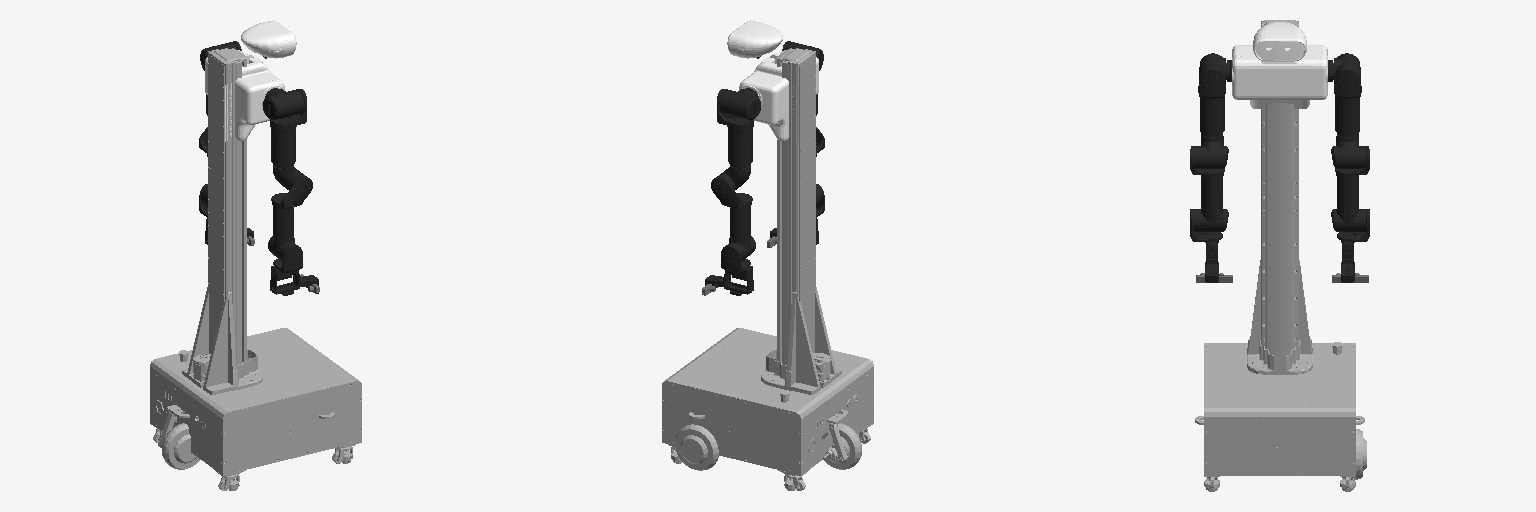
--- What the picture shows (computed from the rendered views, not written in the file) ---
The picture shows the robot from 3 angles, left to right: view 1: azimuth 30°, elevation 25°; view 2: azimuth 150°, elevation 25°; view 3: azimuth 270°, elevation 25°; orthographic projection.
Robot: ffw_sg2_follower — 42 links, 41 joints (30 revolute, 1 prismatic, 10 fixed); root link world_link; default pose: all joints at 0.
Links seen in each view (by area): view 1: base_link, lift_link, arm_base_link, head_link2, arm_r_link2, arm_r_link4, rear_wheel_drive_link, arm_r_link1, arm_r_link6, arm_r_link7; view 2: base_link, lift_link, arm_base_link, left_wheel_drive_link, head_link2, arm_l_link2, arm_l_link4, arm_l_link1, rear_wheel_drive_link, arm_l_link6, arm_l_link7, rear_wheel_steer_link; view 3: base_link, arm_base_link, head_link2, arm_l_link2, arm_r_link2, arm_l_link4, arm_r_link4, arm_l_link3, arm_r_link3, arm_r_link5, arm_l_link5, arm_l_link1 (+1 smaller).
Boxes of the visible links, bbox=[...] form: base_link: bbox=[150, 48, 361, 490]; lift_link: bbox=[188, 48, 240, 387]; arm_base_link: bbox=[205, 50, 284, 141]; head_link2: bbox=[241, 20, 296, 58]; arm_r_link2: bbox=[270, 89, 306, 166]; arm_r_link4: bbox=[271, 177, 312, 238]; rear_wheel_drive_link: bbox=[162, 423, 200, 469]; arm_r_link1: bbox=[263, 88, 304, 119]; arm_r_link6: bbox=[271, 245, 302, 280]; arm_r_link7: bbox=[270, 269, 318, 295]; base_link: bbox=[662, 48, 873, 490]; lift_link: bbox=[783, 48, 835, 387]; arm_base_link: bbox=[739, 50, 818, 141]; left_wheel_drive_link: bbox=[675, 424, 718, 470]; head_link2: bbox=[727, 20, 782, 58]; arm_l_link2: bbox=[717, 89, 753, 166]; arm_l_link4: bbox=[711, 177, 752, 238]; arm_l_link1: bbox=[719, 88, 760, 119]; rear_wheel_drive_link: bbox=[822, 423, 861, 469]; arm_l_link6: bbox=[721, 245, 752, 280]; arm_l_link7: bbox=[705, 269, 753, 295]; rear_wheel_steer_link: bbox=[816, 409, 847, 462]; base_link: bbox=[1204, 103, 1355, 491]; arm_base_link: bbox=[1232, 45, 1327, 108]; head_link2: bbox=[1253, 22, 1306, 61]; arm_l_link2: bbox=[1334, 68, 1361, 134]; arm_r_link2: bbox=[1198, 68, 1225, 134]; arm_l_link4: bbox=[1335, 146, 1369, 210]; arm_r_link4: bbox=[1190, 146, 1224, 210]; arm_l_link3: bbox=[1331, 133, 1365, 168]; arm_r_link3: bbox=[1194, 133, 1228, 168]; arm_r_link5: bbox=[1194, 207, 1228, 231]; arm_l_link5: bbox=[1331, 207, 1365, 231]; arm_l_link1: bbox=[1328, 53, 1360, 83].
Bounding box of the posed robot: 0.6584 × 0.6042 × 1.61 m (x, y, z).
Meshes: 31 distinct files referenced, 26 mesh visuals loaded (25 binary STL); not drawn: 11 (reference not matched to a file when rendering).

The robot description file, URDF, robot "ffw_sg2_follower":
<?xml version="1.0" ?>
<!-- =================================================================================== -->
<!-- |    This document was autogenerated by xacro from ./ffw_sg2_follower.urdf.xacro  | -->
<!-- |    EDITING THIS FILE BY HAND IS NOT RECOMMENDED                                 | -->
<!-- =================================================================================== -->
<robot name="ffw_sg2_follower">
  <link name="world_link"/>
  <joint name="world_fixed" type="fixed">
    <parent link="world_link"/>
    <child link="base_link"/>
    <origin rpy="0 0 0" xyz="0.0 0.0 0.0"/>
  </joint>
  <link name="base_link">
    <visual>
      <origin rpy="0 0 0" xyz="0 0 0"/>
      <geometry>
        <mesh filename="./ffw_description/meshes/ffw_sg2_rev1_follower/base_mobile_assy.stl" scale="0.001 0.001 0.001"/>
      </geometry>
      <material name="silver">
        <color rgba="0.75 0.75 0.75 1"/>
      </material>
    </visual>
    <collision>
      <origin rpy="0 0 0" xyz="0 0 0"/>
      <geometry>
        <mesh filename="./ffw_description/meshes/ffw_sg2_rev1_follower/base_mobile_assy.stl" scale="0.001 0.001 0.001"/>
      </geometry>
    </collision>
    <inertial>
       <origin xyz="-4.574796400e-02 6.581058800e-03 1.943184200e-01" />
       <mass value="35.989" />
       <inertia ixx="0.0172547" ixy="0.0000000647" ixz="0.000000189"
                iyy="0.0398374" iyz="0.000000171"
                izz="0.0284613" />
    </inertial>
  </link>
  <link name="lift_link">
    <visual>
      <origin rpy="0 0 0" xyz="0 0 0"/>
      <geometry>
        <mesh filename="./ffw_description/meshes/ffw_sg2_rev1_follower/lift_link.stl" scale="0.001 0.001 0.001"/>
      </geometry>
      <material name="silver">
        <color rgba="0.75 0.75 0.75 1"/>
      </material>
    </visual>
    <collision>
      <origin rpy="0 0 0" xyz="0 0 0"/>
      <geometry>
        <mesh filename="./ffw_description/meshes/ffw_sg2_rev1_follower/lift_link.stl" scale="0.001 0.001 0.001"/>
      </geometry>
    </collision>
    <inertial>
       <origin xyz="-1.286987800e-01 -1.604580800e-05 8.945601700e-01" />
       <mass value="17.9" />
       <inertia ixx="0.0100947" ixy="-0.0000000356" ixz="0.0012131"
                iyy="0.0102705" iyz="0.0000000702"
                izz="0.0001971" />
    </inertial>
  </link>
  <joint name="lift_fixed_joint" type="fixed">
    <parent link="base_link"/>
    <child link="lift_link"/>
    <origin rpy="0 0 0" xyz="0.0 0.0 0.0"/>
  </joint>
  <material name="aluminum">
    <color rgba="0.5 0.5 0.5 1"/>
  </material>
  <material name="plastic">
    <color rgba="0.1 0.1 0.1 1"/>
  </material>
  <joint name="lift_joint" type="prismatic">
    <parent link="base_link"/>
    <child link="arm_base_link"/>
    <origin rpy="0 0 0" xyz="-0.0199 0 1.4316"/>
    <axis xyz="0 0 1"/>
    <limit effort="1000" lower="-0.5" upper="0.0" velocity="4.8"/>
    <dynamics damping="0.1"/>
  </joint>
  <link name="arm_base_link">
    <visual>
      <origin rpy="0 0 0" xyz="0 0 0"/>
      <geometry>
        <mesh filename="./ffw_description/meshes/common/follower/body_arm_assy.stl" scale="0.001 0.001 0.001"/>
      </geometry>
      <material name="white">
        <color rgba="1 1 1 1"/>
      </material>
    </visual>
    <collision>
      <origin rpy="0 0 0" xyz="0 0 0"/>
      <geometry>
        <mesh filename="./ffw_description/meshes/common/follower/body_arm_assy.stl" scale="0.001 0.001 0.001"/>
      </geometry>
    </collision>
    <inertial>
      <origin xyz="-1.492287800e-02 2.731522500e-03 -4.342526400e-02"/>
      <mass value="6.193955900e+00"/>
      <inertia ixx="1.082886600e-01" ixy="2.929692500e-06" ixz="-1.572750800e-03" iyy="5.432369700e-02" iyz="1.698970600e-03" izz="7.960084300e-02"/>
    </inertial>
  </link>
  <joint name="head_joint1" type="revolute">
    <parent link="arm_base_link"/>
    <child link="head_link1"/>
    <origin rpy="0 0 0" xyz="0.0494878 0 0.102123"/>
    <axis xyz="0 1 0"/>
    <limit effort="1000" lower="-0.2317" upper="0.6951" velocity="4.8"/>
    <dynamics damping="0.1"/>
  </joint>
  <link name="head_link1">
    <visual>
      <origin rpy="0 0 0" xyz="0 0 0"/>
      <geometry>
        <mesh filename="./ffw_description/meshes/common/follower/head_link1.stl" scale="0.001 0.001 0.001"/>
      </geometry>
      <material name="grey">
        <color rgba="0.2 0.2 0.2 1"/>
      </material>
    </visual>
    <collision>
      <origin rpy="0 0 0" xyz="0 0 0"/>
      <geometry>
        <mesh filename="./ffw_description/meshes/common/follower/head_link1.stl" scale="0.001 0.001 0.001"/>
      </geometry>
    </collision>
    <inertial>
      <origin xyz="2.533965600e-02 0.000000000e+00 4.774514600e-02"/>
      <mass value="1.235180200e-01"/>
      <inertia ixx="6.870965700e-03" ixy="8.592260200e-07" ixz="-3.002664500e-04" iyy="1.771510200e-02" iyz="-4.447973700e-07" izz="1.631113500e-02"/>
    </inertial>
  </link>
  <joint name="head_joint2" type="revolute">
    <parent link="head_link1"/>
    <child link="head_link2"/>
    <origin rpy="0 0 0" xyz="0.0365694 0 0.0563797"/>
    <axis xyz="0 0 1"/>
    <limit effort="1000" lower="-0.35" upper="0.35" velocity="4.8"/>
    <dynamics damping="0.1"/>
  </joint>
  <link name="head_link2">
    <visual>
      <origin rpy="0 0 0" xyz="0 0 0"/>
      <geometry>
        <mesh filename="./ffw_description/meshes/common/follower/head_link2.stl" scale="0.001 0.001 0.001"/>
      </geometry>
      <material name="white">
        <color rgba="1 1 1 1"/>
      </material>
    </visual>
    <collision>
      <origin rpy="0 0 0" xyz="0 0 0"/>
      <geometry>
        <mesh filename="./ffw_description/meshes/common/follower/head_link2.stl" scale="0.001 0.001 0.001"/>
      </geometry>
    </collision>
    <inertial>
      <origin xyz="3.052563400e-03 1.180475700e-03 -1.593280400e-02"/>
      <mass value="3.254213000e-01"/>
      <inertia ixx="8.907301100e-04" ixy="-5.211330800e-06" ixz="1.758054200e-05" iyy="7.631788100e-04" iyz="-1.022156300e-06" izz="1.339403400e-03"/>
    </inertial>
  </link>
  <joint name="arm_l_joint1" type="revolute">
    <parent link="arm_base_link"/>
    <child link="arm_l_link1"/>
    <origin rpy="0 0 0" xyz="0 0.1045 0"/>
    <axis xyz="0 1 0"/>
    <limit effort="1000" lower="-3.14" upper="3.14" velocity="4.8"/>
    <dynamics damping="0.1"/>
  </joint>
  <link name="arm_l_link1">
    <visual>
      <origin rpy="0 0 0" xyz="0 0 0"/>
      <geometry>
        <mesh filename="./ffw_description/meshes/common/follower/arm_l_link1.stl" scale="0.001 0.001 0.001"/>
      </geometry>
      <material name="black">
        <color rgba="0.2 0.2 0.2 1"/>
      </material>
    </visual>
    <collision>
      <origin rpy="0 0 0" xyz="0 0 0"/>
      <geometry>
        <mesh filename="./ffw_description/meshes/common/follower/arm_l_link1.stl" scale="0.001 0.001 0.001"/>
      </geometry>
    </collision>
    <inertial>
      <origin xyz="1.421037300e-02 1.155371800e-01 1.120644000e-04"/>
      <mass value="2.001332200e+00"/>
      <inertia ixx="2.507557700e-03" ixy="-2.196355800e-04" ixz="1.151251900e-05" iyy="2.865299700e-03" iyz="-2.311007900e-06" izz="3.365371600e-03"/>
    </inertial>
  </link>
  <joint name="arm_l_joint2" type="revolute">
    <parent link="arm_l_link1"/>
    <child link="arm_l_link2"/>
    <origin rpy="0 0 0" xyz="0 0.123 0"/>
    <axis xyz="1 0 0"/>
    <limit effort="1000" lower="0.0" upper="3.14" velocity="4.8"/>
    <dynamics damping="0.1"/>
  </joint>
  <link name="arm_l_link2">
    <visual>
      <origin rpy="0 0 0" xyz="0 0 0"/>
      <geometry>
        <mesh filename="./ffw_description/meshes/common/follower/arm_l_link2.stl" scale="0.001 0.001 0.001"/>
      </geometry>
      <material name="black">
        <color rgba="0.2 0.2 0.2 1"/>
      </material>
    </visual>
    <collision>
      <origin rpy="0 0 0" xyz="0 0 0"/>
      <geometry>
        <mesh filename="./ffw_description/meshes/common/follower/arm_l_link2.stl" scale="0.001 0.001 0.001"/>
      </geometry>
    </collision>
    <inertial>
      <origin xyz="9.109841300e-03 -1.053016500e-04 -1.438640700e-01"/>
      <mass value="2.128261000e+00"/>
      <inertia ixx="9.976166600e-03" ixy="-1.420641600e-06" ixz="-2.370609000e-03" iyy="1.088835300e-02" iyz="4.832141500e-06" izz="3.168582700e-03"/>
    </inertial>
  </link>
  <joint name="arm_l_joint3" type="revolute">
    <parent link="arm_l_link2"/>
    <child link="arm_l_link3"/>
    <origin rpy="0 0 0" xyz="0 0 -0.165"/>
    <axis xyz="0 0 1"/>
    <limit effort="1000" lower="-3.14" upper="3.14" velocity="4.8"/>
    <dynamics damping="0.1"/>
  </joint>
  <link name="arm_l_link3">
    <visual>
      <origin rpy="0 0 0" xyz="0 0 0"/>
      <geometry>
        <mesh filename="./ffw_description/meshes/common/follower/arm_l_link3.stl" scale="0.001 0.001 0.001"/>
      </geometry>
      <material name="black">
        <color rgba="0.2 0.2 0.2 1"/>
      </material>
    </visual>
    <collision>
      <origin rpy="0 0 0" xyz="0 0 0"/>
      <geometry>
        <mesh filename="./ffw_description/meshes/common/follower/arm_l_link3.stl" scale="0.001 0.001 0.001"/>
      </geometry>
    </collision>
    <inertial>
      <origin xyz="2.987537300e-02 1.391394900e-02 -1.210139000e-01"/>
      <mass value="1.684755100e+00"/>
      <inertia ixx="2.878077200e-03" ixy="-2.615265200e-04" ixz="6.679408300e-04" iyy="2.707096100e-03" iyz="3.296252200e-04" izz="2.566350600e-03"/>
    </inertial>
  </link>
  <joint name="arm_l_joint4" type="revolute">
    <parent link="arm_l_link3"/>
    <child link="arm_l_link4"/>
    <origin rpy="0 0 0" xyz="0.041004 0 -0.135"/>
    <axis xyz="0 1 0"/>
    <limit effort="1000" lower="-2.9361" upper="1.0786" velocity="4.8"/>
    <dynamics damping="0.1"/>
  </joint>
  <link name="arm_l_link4">
    <visual>
      <origin rpy="0 0 0" xyz="0 0 0"/>
      <geometry>
        <mesh filename="./ffw_description/meshes/common/follower/arm_l_link4.stl" scale="0.001 0.001 0.001"/>
      </geometry>
      <material name="black">
        <color rgba="0.2 0.2 0.2 1"/>
      </material>
    </visual>
    <collision>
      <origin rpy="0 0 0" xyz="0 0 0"/>
      <geometry>
        <mesh filename="./ffw_description/meshes/common/follower/arm_l_link4.stl" scale="0.001 0.001 0.001"/>
      </geometry>
    </collision>
    <inertial>
      <origin xyz="-3.853865300e-02 9.807228600e-03 -1.313122800e-01"/>
      <mass value="1.508214400e+00"/>
      <inertia ixx="6.252303800e-03" ixy="-2.162798200e-04" ixz="-5.113660100e-04" iyy="5.705086400e-03" iyz="-1.597759100e-03" izz="2.098027800e-03"/>
    </inertial>
  </link>
  <joint name="arm_l_joint5" type="revolute">
    <parent link="arm_l_link4"/>
    <child link="arm_l_link5"/>
    <origin rpy="0 0 0" xyz="-0.041004 0 -0.1489"/>
    <axis xyz="0 0 1"/>
    <limit effort="1000" lower="-3.14" upper="3.14" velocity="4.8"/>
    <dynamics damping="0.1"/>
  </joint>
  <link name="arm_l_link5">
    <visual>
      <origin rpy="0 0 0" xyz="0 0 0"/>
      <geometry>
        <mesh filename="./ffw_description/meshes/common/follower/arm_l_link5.stl" scale="0.001 0.001 0.001"/>
      </geometry>
      <material name="black">
        <color rgba="0.2 0.2 0.2 1"/>
      </material>
    </visual>
    <collision>
      <origin rpy="0 0 0" xyz="0 0 0"/>
      <geometry>
        <mesh filename="./ffw_description/meshes/common/follower/arm_l_link5.stl" scale="0.001 0.001 0.001"/>
      </geometry>
    </collision>
    <inertial>
      <origin xyz="-3.122616100e-05 1.681922700e-02 -9.873815600e-02"/>
      <mass value="1.391783100e+00"/>
      <inertia ixx="1.885672100e-03" ixy="1.326915800e-06" ixz="2.418484800e-07" iyy="1.285272900e-03" iyz="1.287761700e-04" izz="1.689335300e-03"/>
    </inertial>
  </link>
  <joint name="arm_l_joint6" type="revolute">
    <parent link="arm_l_link5"/>
    <child link="arm_l_link6"/>
    <origin rpy="0 0 0" xyz="0 0 -0.1041"/>
    <axis xyz="0 1 0"/>
    <limit effort="1000" lower="-1.57" upper="1.57" velocity="4.8"/>
    <dynamics damping="0.1"/>
  </joint>
  <link name="arm_l_link6">
    <visual>
      <origin rpy="0 0 0" xyz="0 0 0"/>
      <geometry>
        <mesh filename="./ffw_description/meshes/common/follower/arm_l_link6.stl" scale="0.001 0.001 0.001"/>
      </geometry>
      <material name="black">
        <color rgba="0.2 0.2 0.2 1"/>
      </material>
    </visual>
    <collision>
      <origin rpy="0 0 0" xyz="0 0 0"/>
      <geometry>
        <mesh filename="./ffw_description/meshes/common/follower/arm_l_link6.stl" scale="0.001 0.001 0.001"/>
      </geometry>
    </collision>
    <inertial>
      <origin xyz="2.243891700e-03 1.876410500e-02 -6.480557600e-02"/>
      <mass value="6.577074100e-01"/>
      <inertia ixx="1.416138700e-03" ixy="2.839010300e-05" ixz="3.582229500e-05" iyy="1.142334400e-03" iyz="-5.356836800e-04" izz="1.017517600e-03"/>
    </inertial>
  </link>
  <joint name="arm_l_joint7" type="revolute">
    <parent link="arm_l_link6"/>
    <child link="arm_l_link7"/>
    <origin rpy="0 0 0" xyz="0 0 -0.0885"/>
    <axis xyz="1 0 0"/>
    <limit effort="1000" lower="-1.8201" upper="1.5804" velocity="4.8"/>
    <dynamics damping="0.1"/>
  </joint>
  <link name="arm_l_link7">
    <visual>
      <origin rpy="0 0 0" xyz="0 0 0"/>
      <geometry>
        <mesh filename="./ffw_description/meshes/common/follower/arm_l_link7.stl" scale="0.001 0.001 0.001"/>
      </geometry>
      <material name="black">
        <color rgba="0.2 0.2 0.2 1"/>
      </material>
    </visual>
    <collision>
      <origin rpy="0 0 0" xyz="0 0 0"/>
      <geometry>
        <mesh filename="./ffw_description/meshes/common/follower/arm_l_link7.stl" scale="0.001 0.001 0.001"/>
      </geometry>
    </collision>
    <inertial>
      <origin xyz="2.550659300e-02 0.000000000e+00 -5.539533100e-02"/>
      <mass value="1.668563000e-01"/>
      <inertia ixx="1.035867900e-04" ixy="0.000000000e+00" ixz="1.098870100e-05" iyy="4.524528700e-04" iyz="0.000000000e+00" izz="4.156884400e-04"/>
    </inertial>
  </link>
  <!-- camera body, with origin at bottom screw mount -->
  <joint name="camera_l_joint" type="fixed">
    <origin rpy="-1.57079632679 1.66678943569 0" xyz="0.108236 -0.021 -0.062552"/>
    <parent link="arm_l_link7"/>
    <child link="camera_l_bottom_screw_frame"/>
  </joint>
  <link name="camera_l_bottom_screw_frame"/>
  <joint name="camera_l_link_joint" type="fixed">
    <origin rpy="0 0 0" xyz="0.01085 0.009 0.021"/>
    <parent link="camera_l_bottom_screw_frame"/>
    <child link="camera_l_link"/>
  </joint>
  <link name="camera_l_link">
    <visual>
      <!-- the mesh origin is at front plate in between the two infrared camera axes -->
      <origin rpy="1.5707963267948966 0 1.5707963267948966" xyz="0.0038 -0.009 0"/>
      <geometry>
        <mesh filename="./ffw_description/meshes/common/follower/zedm.stl" scale="0.001 0.001 0.001"/>
      </geometry>
      <material name="aluminum"/>
    </visual>
    <collision>
      <origin rpy="0 0 0" xyz="-0.0078 -0.009 0"/>
      <geometry>
        <box size="0.023 0.042 0.042"/>
      </geometry>
    </collision>
    <inertial>
      <mass value="0.072"/>
      <origin xyz="0 0 0"/>
      <inertia ixx="0.003881243" ixy="0.0" ixz="0.0" iyy="0.000498940" iyz="0.0" izz="0.003879257"/>
    </inertial>
  </link>
  <joint name="arm_r_joint1" type="revolute">
    <parent link="arm_base_link"/>
    <child link="arm_r_link1"/>
    <origin rpy="0 0 0" xyz="0 -0.1045 0"/>
    <axis xyz="0 1 0"/>
    <limit effort="1000" lower="-3.14" upper="3.14" velocity="4.8"/>
    <dynamics damping="0.1"/>
  </joint>
  <link name="arm_r_link1">
    <visual>
      <origin rpy="0 0 0" xyz="0 0 0"/>
      <geometry>
        <mesh filename="./ffw_description/meshes/common/follower/arm_r_link1.stl" scale="0.001 0.001 0.001"/>
      </geometry>
      <material name="black">
        <color rgba="0.2 0.2 0.2 1"/>
      </material>
    </visual>
    <collision>
      <origin rpy="0 0 0" xyz="0 0 0"/>
      <geometry>
        <mesh filename="./ffw_description/meshes/common/follower/arm_r_link1.stl" scale="0.001 0.001 0.001"/>
      </geometry>
    </collision>
    <inertial>
      <origin xyz="1.421037300e-02 -1.155371800e-01 -1.120644000e-04"/>
      <mass value="2.001332200e+00"/>
      <inertia ixx="2.507557700e-03" ixy="2.196355800e-04" ixz="-1.151251900e-05" iyy="2.865299700e-03" iyz="-2.311007900e-06" izz="3.365371600e-03"/>
    </inertial>
  </link>
  <joint name="arm_r_joint2" type="revolute">
    <parent link="arm_r_link1"/>
    <child link="arm_r_link2"/>
    <origin rpy="0 0 0" xyz="0 -0.123 0"/>
    <axis xyz="1 0 0"/>
    <limit effort="1000" lower="-3.14" upper="0" velocity="4.8"/>
    <dynamics damping="0.1"/>
  </joint>
  <link name="arm_r_link2">
    <visual>
      <origin rpy="0 0 0" xyz="0 0 0"/>
      <geometry>
        <mesh filename="./ffw_description/meshes/common/follower/arm_r_link2.stl" scale="0.001 0.001 0.001"/>
      </geometry>
      <material name="black">
        <color rgba="0.2 0.2 0.2 1"/>
      </material>
    </visual>
    <collision>
      <origin rpy="0 0 0" xyz="0 0 0"/>
      <geometry>
        <mesh filename="./ffw_description/meshes/common/follower/arm_r_link2.stl" scale="0.001 0.001 0.001"/>
      </geometry>
    </collision>
    <inertial>
      <origin xyz="9.109841300e-03 -1.053016500e-04 -1.438640700e-01"/>
      <mass value="2.128261000e+00"/>
      <inertia ixx="9.976166600e-03" ixy="-1.420641600e-06" ixz="-2.370609000e-03" iyy="1.088835300e-02" iyz="4.832141500e-06" izz="3.168582700e-03"/>
    </inertial>
  </link>
  <joint name="arm_r_joint3" type="revolute">
    <parent link="arm_r_link2"/>
    <child link="arm_r_link3"/>
    <origin rpy="0 0 0" xyz="0 0 -0.165"/>
    <axis xyz="0 0 1"/>
    <limit effort="1000" lower="-3.14" upper="3.14" velocity="4.8"/>
    <dynamics damping="0.1"/>
  </joint>
  <link name="arm_r_link3">
    <visual>
      <origin rpy="0 0 0" xyz="0 0 0"/>
      <geometry>
        <mesh filename="./ffw_description/meshes/common/follower/arm_r_link3.stl" scale="0.001 0.001 0.001"/>
      </geometry>
      <material name="black">
        <color rgba="0.2 0.2 0.2 1"/>
      </material>
    </visual>
    <collision>
      <origin rpy="0 0 0" xyz="0 0 0"/>
      <geometry>
        <mesh filename="./ffw_description/meshes/common/follower/arm_r_link3.stl" scale="0.001 0.001 0.001"/>
      </geometry>
    </collision>
    <inertial>
      <origin xyz="2.984576500e-02 -1.392295900e-02 -1.210435100e-01"/>
      <mass value="1.684755100e+00"/>
      <inertia ixx="2.877971200e-03" ixy="2.632159900e-04" ixz="6.677998500e-04" iyy="2.707378400e-03" iyz="-3.275929900e-04" izz="2.563528600e-03"/>
    </inertial>
  </link>
  <joint name="arm_r_joint4" type="revolute">
    <parent link="arm_r_link3"/>
    <child link="arm_r_link4"/>
    <origin rpy="0 0 0" xyz="0.041004 0 -0.135"/>
    <axis xyz="0 1 0"/>
    <limit effort="1000" lower="-2.9361" upper="1.0786" velocity="4.8"/>
    <dynamics damping="0.1"/>
  </joint>
  <link name="arm_r_link4">
    <visual>
      <origin rpy="0 0 0" xyz="0 0 0"/>
      <geometry>
        <mesh filename="./ffw_description/meshes/common/follower/arm_r_link4.stl" scale="0.001 0.001 0.001"/>
      </geometry>
      <material name="black">
        <color rgba="0.2 0.2 0.2 1"/>
      </material>
    </visual>
    <collision>
      <origin rpy="0 0 0" xyz="0 0 0"/>
      <geometry>
        <mesh filename="./ffw_description/meshes/common/follower/arm_r_link4.stl" scale="0.001 0.001 0.001"/>
      </geometry>
    </collision>
    <inertial>
      <origin xyz="-3.867746800e-02 -9.308009900e-03 -1.322971300e-01"/>
      <mass value="1.494251100e+00"/>
      <inertia ixx="6.032357900e-03" ixy="2.028997300e-04" ixz="-4.854051900e-04" iyy="5.536423500e-03" iyz="1.507124600e-03" izz="2.032999700e-03"/>
    </inertial>
  </link>
  <joint name="arm_r_joint5" type="revolute">
    <parent link="arm_r_link4"/>
    <child link="arm_r_link5"/>
    <origin rpy="0 0 0" xyz="-0.041004 0 -0.1489"/>
    <axis xyz="0 0 1"/>
    <limit effort="1000" lower="-3.14" upper="3.14" velocity="4.8"/>
    <dynamics damping="0.1"/>
  </joint>
  <link name="arm_r_link5">
    <visual>
      <origin rpy="0 0 0" xyz="0 0 0"/>
      <geometry>
        <mesh filename="./ffw_description/meshes/common/follower/arm_r_link5.stl" scale="0.001 0.001 0.001"/>
      </geometry>
      <material name="black">
        <color rgba="0.2 0.2 0.2 1"/>
      </material>
    </visual>
    <collision>
      <origin rpy="0 0 0" xyz="0 0 0"/>
      <geometry>
        <mesh filename="./ffw_description/meshes/common/follower/arm_r_link5.stl" scale="0.001 0.001 0.001"/>
      </geometry>
    </collision>
    <inertial>
      <origin xyz="8.387686000e-04 -1.679849900e-02 -9.873815600e-02"/>
      <mass value="1.391783100e+00"/>
      <inertia ixx="1.882492800e-03" ixy="3.480391000e-05" ixz="6.806743100e-06" iyy="1.288452200e-03" iyz="-1.285963700e-04" izz="1.689335300e-03"/>
    </inertial>
  </link>
  <joint name="arm_r_joint6" type="revolute">
    <parent link="arm_r_link5"/>
    <child link="arm_r_link6"/>
    <origin rpy="0 0 0" xyz="0 0 -0.1041"/>
    <axis xyz="0 1 0"/>
    <limit effort="1000" lower="-1.57" upper="1.57" velocity="4.8"/>
    <dynamics damping="0.1"/>
  </joint>
  <link name="arm_r_link6">
    <visual>
      <origin rpy="0 0 0" xyz="0 0 0"/>
      <geometry>
        <mesh filename="./ffw_description/meshes/common/follower/arm_r_link6.stl" scale="0.001 0.001 0.001"/>
      </geometry>
      <material name="black">
        <color rgba="0.2 0.2 0.2 1"/>
      </material>
    </visual>
    <collision>
      <origin rpy="0 0 0" xyz="0 0 0"/>
      <geometry>
        <mesh filename="./ffw_description/meshes/common/follower/arm_r_link6.stl" scale="0.001 0.001 0.001"/>
      </geometry>
    </collision>
    <inertial>
      <origin xyz="3.267491200e-03 -1.861259000e-02 -6.479261600e-02"/>
      <mass value="6.577074100e-01"/>
      <inertia ixx="1.417976200e-03" ixy="-1.325841000e-05" ixz="6.534407900e-06" iyy="1.139647400e-03" iyz="5.366707300e-04" izz="1.017476200e-03"/>
    </inertial>
  </link>
  <joint name="arm_r_joint7" type="revolute">
    <parent link="arm_r_link6"/>
    <child link="arm_r_link7"/>
    <origin rpy="0 0 0" xyz="0 0 -0.0885"/>
    <axis xyz="1 0 0"/>
    <limit effort="1000" lower="-1.5804" upper="1.8201" velocity="4.8"/>
    <dynamics damping="0.1"/>
  </joint>
  <link name="arm_r_link7">
    <visual>
      <origin rpy="0 0 0" xyz="0 0 0"/>
      <geometry>
        <mesh filename="./ffw_description/meshes/common/follower/arm_r_link7.stl" scale="0.001 0.001 0.001"/>
      </geometry>
      <material name="black">
        <color rgba="0.2 0.2 0.2 1"/>
      </material>
    </visual>
    <collision>
      <origin rpy="0 0 0" xyz="0 0 0"/>
      <geometry>
        <mesh filename="./ffw_description/meshes/common/follower/arm_r_link7.stl" scale="0.001 0.001 0.001"/>
      </geometry>
    </collision>
    <inertial>
      <origin xyz="2.546836200e-02 1.396001200e-03 -5.539533100e-02"/>
      <mass value="1.668563000e-01"/>
      <inertia ixx="1.046318100e-04" ixy="-1.906515900e-05" ixz="1.097223300e-05" iyy="4.514078500e-04" iyz="6.013716400e-07" izz="4.156884400e-04"/>
    </inertial>
  </link>
  <!-- camera body, with origin at bottom screw mount -->
  <joint name="camera_r_joint" type="fixed">
    <origin rpy="-1.57079632679 1.66678943569 0" xyz="0.108236 -0.021 -0.062552"/>
    <parent link="arm_r_link7"/>
    <child link="camera_r_bottom_screw_frame"/>
  </joint>
  <link name="camera_r_bottom_screw_frame"/>
  <joint name="camera_r_link_joint" type="fixed">
    <origin rpy="0 0 0" xyz="0.01085 0.009 0.021"/>
    <parent link="camera_r_bottom_screw_frame"/>
    <child link="camera_r_link"/>
  </joint>
  <link name="camera_r_link">
    <visual>
      <!-- the mesh origin is at front plate in between the two infrared camera axes -->
      <origin rpy="1.5707963267948966 0 1.5707963267948966" xyz="0.0038 -0.009 0"/>
      <geometry>
        <mesh filename="./ffw_description/meshes/common/follower/zedm.stl" scale="0.001 0.001 0.001"/>
      </geometry>
      <material name="aluminum"/>
    </visual>
    <collision>
      <origin rpy="0 0 0" xyz="-0.0078 -0.009 0"/>
      <geometry>
        <box size="0.023 0.042 0.042"/>
      </geometry>
    </collision>
    <inertial>
      <!-- The following are not reliable values, and should not be used for modeling -->
      <mass value="0.072"/>
      <origin xyz="0 0 0"/>
      <inertia ixx="0.003881243" ixy="0.0" ixz="0.0" iyy="0.000498940" iyz="0.0" izz="0.003879257"/>
    </inertial>
  </link>
  <joint name="gripper_l_joint" type="fixed">
    <origin rpy="0 3.14159265359 3.14159265359" xyz="0 0 -0.078"/>
    <parent link="arm_l_link7"/>
    <child link="gripper_l_rh_p12_rn_base"/>
  </joint>
  <!-- base -->
  <link name="gripper_l_rh_p12_rn_base">
    <collision>
      <origin rpy="0 0 0" xyz="0 0 0"/>
      <geometry>
        <mesh filename="./ffw_description/meshes/common/rh_p12_rn_a/base.stl" scale="0.001 0.001 0.001"/>
      </geometry>
    </collision>
    <visual>
      <origin rpy="0 0 0" xyz="0 0 0"/>
      <geometry>
        <mesh filename="./ffw_description/meshes/common/rh_p12_rn_a/base.stl" scale="0.001 0.001 0.001"/>
      </geometry>
      <material name="grey">
        <color rgba="0.2 0.2 0.2 1"/>
      </material>
    </visual>
    <inertial>
      <origin rpy="0 0 0" xyz="0.000 0.000 0.032"/>
      <mass value="0.236"/>
      <inertia ixx="0.000001" ixy="0.0" ixz="0.0" iyy="0.000001" iyz="0.0" izz="0.000001"/>
    </inertial>
  </link>
  <!-- eepoint_l -->
  <link name="eepoint_l"/>
  <joint name="eepoint_l_joint" type="fixed">
    <parent link="gripper_l_rh_p12_rn_base"/>
    <child link="eepoint_l"/>
    <origin xyz="0 0 0.11" rpy="0 0 0"/>
  </joint>
  <!-- Joint -->
  <joint name="gripper_l_joint1" type="revolute">
    <parent link="gripper_l_rh_p12_rn_base"/>
    <child link="gripper_l_rh_p12_rn_r1"/>
    <origin rpy="0 0 0" xyz="0.0 0.008 0.048"/>
    <axis xyz="1 0 0"/>
    <limit effort="1000" lower="0.0" upper="1.1" velocity="6.5"/>
    <dynamics damping="0.7"/>
  </joint>
  <!-- rh_p12_rn_r1 -->
  <link name="gripper_l_rh_p12_rn_r1">
    <collision>
      <origin rpy="0 0 0" xyz="0 0 0"/>
      <geometry>
        <mesh filename="./ffw_description/meshes/common/rh_p12_rn_a/r1.stl" scale="0.001 0.001 0.001"/>
      </geometry>
    </collision>
    <visual>
      <origin rpy="0 0 0" xyz="0 0 0"/>
      <geometry>
        <mesh filename="./ffw_description/meshes/common/rh_p12_rn_a/r1.stl" scale="0.001 0.001 0.001"/>
      </geometry>
      <material name="grey">
        <color rgba="0.2 0.2 0.2 1"/>
      </material>
    </visual>
    <inertial>
      <origin rpy="0 0 0" xyz="0.000 0.034 0.004"/>
      <mass value="0.068"/>
      <inertia ixx="0.000001" ixy="0.0" ixz="0.0" iyy="0.000001" iyz="0.0" izz="0.000001"/>
    </inertial>
  </link>
  <!-- Right Joint 2 -->
  <joint name="gripper_l_joint2" type="revolute">
    <parent link="gripper_l_rh_p12_rn_r1"/>
    <child link="gripper_l_rh_p12_rn_r2"/>
    <origin rpy="0 0 0" xyz="0.0 0.0493634 0.0285"/>
    <axis xyz="-1 0 0"/>
    <limit effort="1000" lower="0.0" upper="1.0" velocity="6.5"/>
    <dynamics damping="0.7"/>
    <mimic joint="gripper_l_joint1" multiplier="1"/>
  </joint>
  <!-- rh_p12_rn_r2 -->
  <link name="gripper_l_rh_p12_rn_r2">
    <collision>
      <origin rpy="0 0 0" xyz="0 0 0"/>
      <geometry>
        <mesh filename="./ffw_description/meshes/common/rh_p12_rn_a/r2.stl" scale="0.001 0.001 0.001"/>
      </geometry>
    </collision>
    <visual>
      <origin rpy="0 0 0" xyz="0 0 0"/>
      <geometry>
        <mesh filename="./ffw_description/meshes/common/rh_p12_rn_a/r2.stl" scale="0.001 0.001 0.001"/>
      </geometry>
      <material name="grey">
        <color rgba="0.2 0.2 0.2 1"/>
      </material>
    </visual>
    <inertial>
      <origin rpy="0 0 0" xyz="0.000 0.006 0.011"/>
      <mass value="0.022"/>
      <inertia ixx="0.000001" ixy="0.0" ixz="0.0" iyy="0.000001" iyz="0.0" izz="0.000001"/>
    </inertial>
  </link>
  <!-- Left Joint 1 -->
  <joint name="gripper_l_joint3" type="revolute">
    <parent link="gripper_l_rh_p12_rn_base"/>
    <child link="gripper_l_rh_p12_rn_l1"/>
    <origin rpy="0 0 0" xyz="0.0 -0.008 0.048"/>
    <axis xyz="-1 0 0"/>
    <limit effort="1000" lower="0.0" upper="1.1" velocity="6.5"/>
    <dynamics damping="0.7"/>
    <mimic joint="gripper_l_joint1" multiplier="1"/>
  </joint>
  <!-- rh_p12_rn_l1 -->
  <link name="gripper_l_rh_p12_rn_l1">
    <collision>
      <origin rpy="0 0 0" xyz="0 0 0"/>
      <geometry>
        <mesh filename="./ffw_description/meshes/common/rh_p12_rn_a/l1.stl" scale="0.001 0.001 0.001"/>
      </geometry>
    </collision>
    <visual>
      <origin rpy="0 0 0" xyz="0 0 0"/>
      <geometry>
        <mesh filename="./ffw_description/meshes/common/rh_p12_rn_a/l1.stl" scale="0.001 0.001 0.001"/>
      </geometry>
      <material name="grey">
        <color rgba="0.2 0.2 0.2 1"/>
      </material>
    </visual>
    <inertial>
      <origin rpy="0 0 0" xyz="0.000 -0.034 0.004"/>
      <mass value="0.068"/>
      <inertia ixx="0.000001" ixy="0.0" ixz="0.0" iyy="0.000001" iyz="0.0" izz="0.000001"/>
    </inertial>
  </link>
  <!-- Left Joint 2 -->
  <joint name="gripper_l_joint4" type="revolute">
    <parent link="gripper_l_rh_p12_rn_l1"/>
    <child link="gripper_l_rh_p12_rn_l2"/>
    <origin rpy="0 0 0" xyz="0.0 -0.0493634 0.0285"/>
    <axis xyz="1 0 0"/>
    <limit effort="1000" lower="0.0" upper="1.0" velocity="6.5"/>
    <dynamics damping="0.7"/>
    <mimic joint="gripper_l_joint1" multiplier="1"/>
  </joint>
  <!-- rh_p12_rn_l2 -->
  <link name="gripper_l_rh_p12_rn_l2">
    <collision>
      <origin rpy="0 0 0" xyz="0 0 0"/>
      <geometry>
        <mesh filename="./ffw_description/meshes/common/rh_p12_rn_a/l2.stl" scale="0.001 0.001 0.001"/>
      </geometry>
    </collision>
    <visual>
      <origin rpy="0 0 0" xyz="0 0 0"/>
      <geometry>
        <mesh filename="./ffw_description/meshes/common/rh_p12_rn_a/l2.stl" scale="0.001 0.001 0.001"/>
      </geometry>
      <material name="grey">
        <color rgba="0.2 0.2 0.2 1"/>
      </material>
    </visual>
    <inertial>
      <origin rpy="0 0 0" xyz="0.000 -0.006 0.011"/>
      <mass value="0.022"/>
      <inertia ixx="0.000001" ixy="0.0" ixz="0.0" iyy="0.000001" iyz="0.0" izz="0.000001"/>
    </inertial>
  </link>
  <joint name="gripper_r_joint" type="fixed">
    <origin rpy="0 3.14159265359 3.14159265359" xyz="0 0 -0.078"/>
    <parent link="arm_r_link7"/>
    <child link="gripper_r_rh_p12_rn_base"/>
  </joint>
  <!-- base -->
  <link name="gripper_r_rh_p12_rn_base">
    <collision>
      <origin rpy="0 0 0" xyz="0 0 0"/>
      <geometry>
        <mesh filename="./ffw_description/meshes/common/rh_p12_rn_a/base.stl" scale="0.001 0.001 0.001"/>
      </geometry>
    </collision>
    <visual>
      <origin rpy="0 0 0" xyz="0 0 0"/>
      <geometry>
        <mesh filename="./ffw_description/meshes/common/rh_p12_rn_a/base.stl" scale="0.001 0.001 0.001"/>
      </geometry>
      <material name="grey">
        <color rgba="0.2 0.2 0.2 1"/>
      </material>
    </visual>
    <inertial>
      <origin rpy="0 0 0" xyz="0.000 0.000 0.032"/>
      <mass value="0.236"/>
      <inertia ixx="0.000001" ixy="0.0" ixz="0.0" iyy="0.000001" iyz="0.0" izz="0.000001"/>
    </inertial>
  </link>
  <!-- eepoint_r -->
  <link name="eepoint_r"/>
  <joint name="eepoint_r_joint" type="fixed">
    <parent link="gripper_r_rh_p12_rn_base"/>
    <child link="eepoint_r"/>
    <origin xyz="0 0 0.11" rpy="0 0 0"/>
  </joint>
  <!-- Joint -->
  <joint name="gripper_r_joint1" type="revolute">
    <parent link="gripper_r_rh_p12_rn_base"/>
    <child link="gripper_r_rh_p12_rn_r1"/>
    <origin rpy="0 0 0" xyz="0.0 0.008 0.048"/>
    <axis xyz="1 0 0"/>
    <limit effort="1000" lower="0.0" upper="1.1" velocity="6.5"/>
    <dynamics damping="0.7"/>
  </joint>
  <!-- rh_p12_rn_r1 -->
  <link name="gripper_r_rh_p12_rn_r1">
    <collision>
      <origin rpy="0 0 0" xyz="0 0 0"/>
      <geometry>
        <mesh filename="./ffw_description/meshes/common/rh_p12_rn_a/r1.stl" scale="0.001 0.001 0.001"/>
      </geometry>
    </collision>
    <visual>
      <origin rpy="0 0 0" xyz="0 0 0"/>
      <geometry>
        <mesh filename="./ffw_description/meshes/common/rh_p12_rn_a/r1.stl" scale="0.001 0.001 0.001"/>
      </geometry>
      <material name="grey">
        <color rgba="0.2 0.2 0.2 1"/>
      </material>
    </visual>
    <inertial>
      <origin rpy="0 0 0" xyz="0.000 0.034 0.004"/>
      <mass value="0.068"/>
      <inertia ixx="0.000001" ixy="0.0" ixz="0.0" iyy="0.000001" iyz="0.0" izz="0.000001"/>
    </inertial>
  </link>
  <!-- Right Joint 2 -->
  <joint name="gripper_r_joint2" type="revolute">
    <parent link="gripper_r_rh_p12_rn_r1"/>
    <child link="gripper_r_rh_p12_rn_r2"/>
    <origin rpy="0 0 0" xyz="0.0 0.0493634 0.0285"/>
    <axis xyz="-1 0 0"/>
    <limit effort="1000" lower="0.0" upper="1.0" velocity="6.5"/>
    <dynamics damping="0.7"/>
    <mimic joint="gripper_r_joint1" multiplier="1"/>
  </joint>
  <!-- rh_p12_rn_r2 -->
  <link name="gripper_r_rh_p12_rn_r2">
    <collision>
      <origin rpy="0 0 0" xyz="0 0 0"/>
      <geometry>
        <mesh filename="./ffw_description/meshes/common/rh_p12_rn_a/r2.stl" scale="0.001 0.001 0.001"/>
      </geometry>
    </collision>
    <visual>
      <origin rpy="0 0 0" xyz="0 0 0"/>
      <geometry>
        <mesh filename="./ffw_description/meshes/common/rh_p12_rn_a/r2.stl" scale="0.001 0.001 0.001"/>
      </geometry>
      <material name="grey">
        <color rgba="0.2 0.2 0.2 1"/>
      </material>
    </visual>
    <inertial>
      <origin rpy="0 0 0" xyz="0.000 0.006 0.011"/>
      <mass value="0.022"/>
      <inertia ixx="0.000001" ixy="0.0" ixz="0.0" iyy="0.000001" iyz="0.0" izz="0.000001"/>
    </inertial>
  </link>
  <!-- Left Joint 1 -->
  <joint name="gripper_r_joint3" type="revolute">
    <parent link="gripper_r_rh_p12_rn_base"/>
    <child link="gripper_r_rh_p12_rn_l1"/>
    <origin rpy="0 0 0" xyz="0.0 -0.008 0.048"/>
    <axis xyz="-1 0 0"/>
    <limit effort="1000" lower="0.0" upper="1.1" velocity="6.5"/>
    <dynamics damping="0.7"/>
    <mimic joint="gripper_r_joint1" multiplier="1"/>
  </joint>
  <!-- rh_p12_rn_l1 -->
  <link name="gripper_r_rh_p12_rn_l1">
    <collision>
      <origin rpy="0 0 0" xyz="0 0 0"/>
      <geometry>
        <mesh filename="./ffw_description/meshes/common/rh_p12_rn_a/l1.stl" scale="0.001 0.001 0.001"/>
      </geometry>
    </collision>
    <visual>
      <origin rpy="0 0 0" xyz="0 0 0"/>
      <geometry>
        <mesh filename="./ffw_description/meshes/common/rh_p12_rn_a/l1.stl" scale="0.001 0.001 0.001"/>
      </geometry>
      <material name="grey">
        <color rgba="0.2 0.2 0.2 1"/>
      </material>
    </visual>
    <inertial>
      <origin rpy="0 0 0" xyz="0.000 -0.034 0.004"/>
      <mass value="0.068"/>
      <inertia ixx="0.000001" ixy="0.0" ixz="0.0" iyy="0.000001" iyz="0.0" izz="0.000001"/>
    </inertial>
  </link>
  <!-- Left Joint 2 -->
  <joint name="gripper_r_joint4" type="revolute">
    <parent link="gripper_r_rh_p12_rn_l1"/>
    <child link="gripper_r_rh_p12_rn_l2"/>
    <origin rpy="0 0 0" xyz="0.0 -0.0493634 0.0285"/>
    <axis xyz="1 0 0"/>
    <limit effort="1000" lower="0.0" upper="1.0" velocity="6.5"/>
    <dynamics damping="0.7"/>
    <mimic joint="gripper_r_joint1" multiplier="1"/>
  </joint>
  <!-- rh_p12_rn_l2 -->
  <link name="gripper_r_rh_p12_rn_l2">
    <collision>
      <origin rpy="0 0 0" xyz="0 0 0"/>
      <geometry>
        <mesh filename="./ffw_description/meshes/common/rh_p12_rn_a/l2.stl" scale="0.001 0.001 0.001"/>
      </geometry>
    </collision>
    <visual>
      <origin rpy="0 0 0" xyz="0 0 0"/>
      <geometry>
        <mesh filename="./ffw_description/meshes/common/rh_p12_rn_a/l2.stl" scale="0.001 0.001 0.001"/>
      </geometry>
      <material name="grey">
        <color rgba="0.2 0.2 0.2 1"/>
      </material>
    </visual>
    <inertial>
      <origin rpy="0 0 0" xyz="0.000 -0.006 0.011"/>
      <mass value="0.022"/>
      <inertia ixx="0.000001" ixy="0.0" ixz="0.0" iyy="0.000001" iyz="0.0" izz="0.000001"/>
    </inertial>
  </link>
  <joint name="left_wheel_steer" type="revolute">
    <parent link="base_link"/>
    <child link="left_wheel_steer_link"/>
    <origin rpy="0 0 0" xyz="0.1371 0.2554 0.27555"/>
    <axis xyz="0 0 1"/>
    <limit effort="1" lower="-18.84955592153876" upper="18.84955592153876" velocity="4.8"/>
  </joint>
  <link name="left_wheel_steer_link">
    <visual>
      <origin rpy="0 0 0" xyz="0 0 0"/>
      <geometry>
        <mesh filename="./ffw_description/meshes/ffw_sg2_rev1_follower/left_wheel_steer_link.stl" scale="0.001 0.001 0.001"/>
      </geometry>
      <material name="silver">
        <color rgba="0.75 0.75 0.75 1"/>
      </material>
    </visual>
    <collision>
      <origin rpy="0 0 0" xyz="0 0 0"/>
      <geometry>
        <mesh filename="./ffw_description/meshes/ffw_sg2_rev1_follower/left_wheel_steer_link.stl" scale="0.001 0.001 0.001"/>
      </geometry>
    </collision>
    <inertial>
      <origin xyz="9.802769300e-03 -5.471240900e-02 -1.376533800e-01"/>
      <mass value="7.550951000e-01"/>
      <inertia ixx="2.797326600e-03" ixy="-3.290807800e-05" ixz="-1.950671800e-04" iyy="3.582264900e-03" iyz="-2.853290700e-04" izz="1.683594000e-03"/>
    </inertial>
  </link>
  <joint name="left_wheel_drive" type="revolute">
    <parent link="left_wheel_steer_link"/>
    <child link="left_wheel_drive_link"/>
    <origin rpy="0 0 0" xyz="0 0 -0.18905"/>
    <axis xyz="0 1 0"/>
    <limit effort="1" lower="-18.84955592153876" upper="18.84955592153876" velocity="4.8"/>
  </joint>
  <link name="left_wheel_drive_link">
    <visual>
      <origin rpy="0 0 0" xyz="0 0 0"/>
      <geometry>
        <mesh filename="./ffw_description/meshes/ffw_sg2_rev1_follower/left_wheel_drive_link.stl" scale="0.001 0.001 0.001"/>
      </geometry>
      <material name="silver">
        <color rgba="0.75 0.75 0.75 1"/>
      </material>
    </visual>
    <collision>
      <origin rpy="0 0 0" xyz="0 0 0"/>
      <geometry>
        <mesh filename="./ffw_description/meshes/ffw_sg2_rev1_follower/left_wheel_drive_link.stl" scale="0.001 0.001 0.001"/>
      </geometry>
    </collision>
    <inertial>
      <origin xyz="0.000000000e+00 -1.499601700e-03 0.000000000e+00"/>
      <mass value="3.795460500e+00"/>
      <inertia ixx="7.187881500e-03" ixy="0.000000000e+00" ixz="0.000000000e+00" iyy="1.156399900e-02" iyz="0.000000000e+00" izz="7.187977000e-03"/>
    </inertial>
  </link>
  <joint name="right_wheel_steer" type="revolute">
    <parent link="base_link"/>
    <child link="right_wheel_steer_link"/>
    <origin rpy="0 0 0" xyz="0.1371 -0.2554 0.27555"/>
    <axis xyz="0 0 1"/>
    <limit effort="1" lower="-18.84955592153876" upper="18.84955592153876" velocity="4.8"/>
  </joint>
  <link name="right_wheel_steer_link">
    <visual>
      <origin rpy="0 0 0" xyz="0 0 0"/>
      <geometry>
        <mesh filename="./ffw_description/meshes/ffw_sg2_rev1_follower/right_wheel_steer_link.stl" scale="0.001 0.001 0.001"/>
      </geometry>
      <material name="silver">
        <color rgba="0.75 0.75 0.75 1"/>
      </material>
    </visual>
    <collision>
      <origin rpy="0 0 0" xyz="0 0 0"/>
      <geometry>
        <mesh filename="./ffw_description/meshes/ffw_sg2_rev1_follower/right_wheel_steer_link.stl" scale="0.001 0.001 0.001"/>
      </geometry>
    </collision>
    <inertial>
      <origin xyz="9.802728600e-03 5.471240900e-02 -1.376533400e-01"/>
      <mass value="7.550951000e-01"/>
      <inertia ixx="2.797322900e-03" ixy="3.290833300e-05" ixz="-1.950642500e-04" iyy="3.582262300e-03" iyz="2.853288400e-04" izz="1.683595100e-03"/>
    </inertial>
  </link>
  <joint name="right_wheel_drive" type="revolute">
    <parent link="right_wheel_steer_link"/>
    <child link="right_wheel_drive_link"/>
    <origin rpy="0 0 0" xyz="0 0 -0.18905"/>
    <axis xyz="0 1 0"/>
    <limit effort="1" lower="-18.84955592153876" upper="18.84955592153876" velocity="4.8"/>
  </joint>
  <link name="right_wheel_drive_link">
    <visual>
      <origin rpy="0 0 0" xyz="0 0 0"/>
      <geometry>
        <mesh filename="./ffw_description/meshes/ffw_sg2_rev1_follower/right_wheel_drive_link.stl" scale="0.001 0.001 0.001"/>
      </geometry>
      <material name="silver">
        <color rgba="0.75 0.75 0.75 1"/>
      </material>
    </visual>
    <collision>
      <origin rpy="0 0 0" xyz="0 0 0"/>
      <geometry>
        <mesh filename="./ffw_description/meshes/ffw_sg2_rev1_follower/right_wheel_drive_link.stl" scale="0.001 0.001 0.001"/>
      </geometry>
    </collision>
    <inertial>
      <origin xyz="0.000000000e+00 1.499601700e-03 0.000000000e+00"/>
      <mass value="3.795460500e+00"/>
      <inertia ixx="7.187881500e-03" ixy="0.000000000e+00" ixz="0.000000000e+00" iyy="1.156399900e-02" iyz="0.000000000e+00" izz="7.187977000e-03"/>
    </inertial>
  </link>
  <joint name="rear_wheel_steer" type="revolute">
    <parent link="base_link"/>
    <child link="rear_wheel_steer_link"/>
    <origin rpy="0 0 0" xyz="-0.2899 0 0.27555"/>
    <axis xyz="0 0 1"/>
    <limit effort="1" lower="-18.84955592153876" upper="18.84955592153876" velocity="4.8"/>
  </joint>
  <link name="rear_wheel_steer_link">
    <visual>
      <origin rpy="0 0 0" xyz="0 0 0"/>
      <geometry>
        <mesh filename="./ffw_description/meshes/ffw_sg2_rev1_follower/rear_wheel_steer_link.stl" scale="0.001 0.001 0.001"/>
      </geometry>
      <material name="silver">
        <color rgba="0.75 0.75 0.75 1"/>
      </material>
    </visual>
    <collision>
      <origin rpy="0 0 0" xyz="0 0 0"/>
      <geometry>
        <mesh filename="./ffw_description/meshes/ffw_sg2_rev1_follower/rear_wheel_steer_link.stl" scale="0.001 0.001 0.001"/>
      </geometry>
    </collision>
    <inertial>
      <origin xyz="9.802728600e-03 5.471240900e-02 -1.376533400e-01"/>
      <mass value="7.550951000e-01"/>
      <inertia ixx="2.797322900e-03" ixy="3.290833300e-05" ixz="-1.950642500e-04" iyy="3.582262300e-03" iyz="2.853288400e-04" izz="1.683595100e-03"/>
    </inertial>
  </link>
  <joint name="rear_wheel_drive" type="revolute">
    <parent link="rear_wheel_steer_link"/>
    <child link="rear_wheel_drive_link"/>
    <origin rpy="0 0 0" xyz="0 0 -0.18905"/>
    <axis xyz="0 1 0"/>
    <limit effort="1" lower="-18.84955592153876" upper="18.84955592153876" velocity="4.8"/>
  </joint>
  <link name="rear_wheel_drive_link">
    <visual>
      <origin rpy="0 0 0" xyz="0 0 0"/>
      <geometry>
        <mesh filename="./ffw_description/meshes/ffw_sg2_rev1_follower/rear_wheel_drive_link.stl" scale="0.001 0.001 0.001"/>
      </geometry>
      <material name="silver">
        <color rgba="0.75 0.75 0.75 1"/>
      </material>
    </visual>
    <collision>
      <origin rpy="0 0 0" xyz="0 0 0"/>
      <geometry>
        <mesh filename="./ffw_description/meshes/ffw_sg2_rev1_follower/rear_wheel_drive_link.stl" scale="0.001 0.001 0.001"/>
      </geometry>
    </collision>
    <inertial>
      <origin xyz="0.000000000e+00 1.499601700e-03 0.000000000e+00"/>
      <mass value="3.795460500e+00"/>
      <inertia ixx="7.187881500e-03" ixy="0.000000000e+00" ixz="0.000000000e+00" iyy="1.156399900e-02" iyz="0.000000000e+00" izz="7.187977000e-03"/>
    </inertial>
  </link>
</robot>
